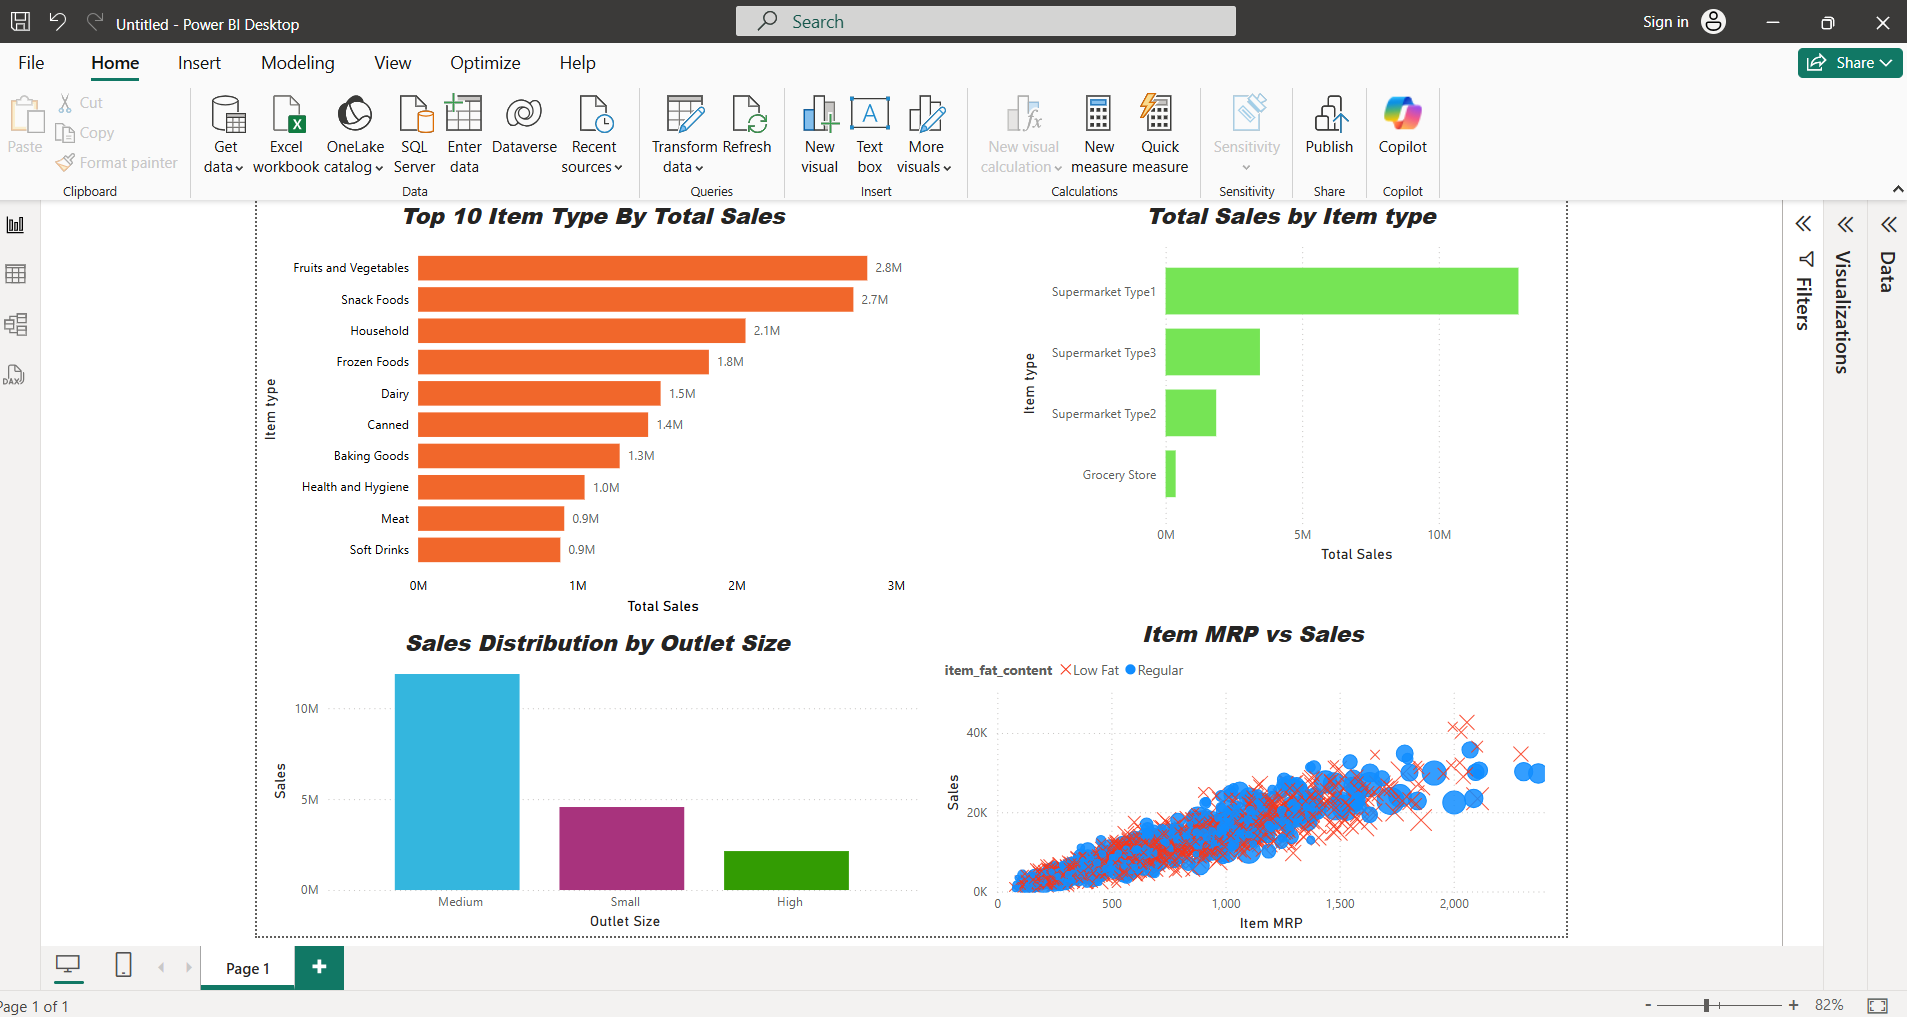

Layout of this report page (visuals, bound fields, positions):
{"tool":"powerbi","page":{"name":"Page 1","canvas":[1280,720],"ordinal":0},"visuals":[{"type":"barChart","title":"Top 10 Item Type By Total Sales","fields":{"Y":["Sum(bigmart_data_cleaned.item_outlet_sales)"],"Category":["bigmart_data_cleaned.item_type"]},"box":[0,0,656,410],"z":0},{"type":"clusteredBarChart","fields":{"Category":["bigmart_data_cleaned.outlet_type"],"Y":["Sum(bigmart_data_cleaned.item_outlet_sales)"]},"box":[742.4,0,537.9,359.5],"z":1000},{"type":"scatterChart","title":"Item MRP vs Sales","fields":{"X":["Sum(bigmart_data_cleaned.item_mrp)"],"Y":["Sum(bigmart_data_cleaned.item_outlet_sales)"],"Category":["bigmart_data_cleaned.item_identifier"],"Size":["Sum(bigmart_data_cleaned.item_visibility)"],"Series":["bigmart_data_cleaned.item_fat_content"]},"box":[667.7,409.6,612.6,310.6],"z":2000},{"type":"clusteredColumnChart","title":"Sales Distribution by Outlet Size","fields":{"Y":["Sum(bigmart_data_cleaned.item_outlet_sales)"],"Category":["bigmart_data_cleaned.outlet_size"]},"box":[9.8,418.2,645.7,300.8],"z":3000}]}

Visuals, with their boxes on the page's 1280x720 design canvas (x1, y1, x2, y2). These are canvas units, not pixel positions in the 1907x1017 screenshot, which may show the page scaled, cropped or inside an application window:
"Top 10 Item Type By Total Sales" barChart: [0,0,656,410]
clusteredBarChart - bigmart_data_cleaned.outlet_type x Sum(bigmart_data_cleaned.item_outlet_sales): [742,0,1280,360]
"Item MRP vs Sales" scatterChart: [668,410,1280,720]
"Sales Distribution by Outlet Size" clusteredColumnChart: [10,418,656,719]
